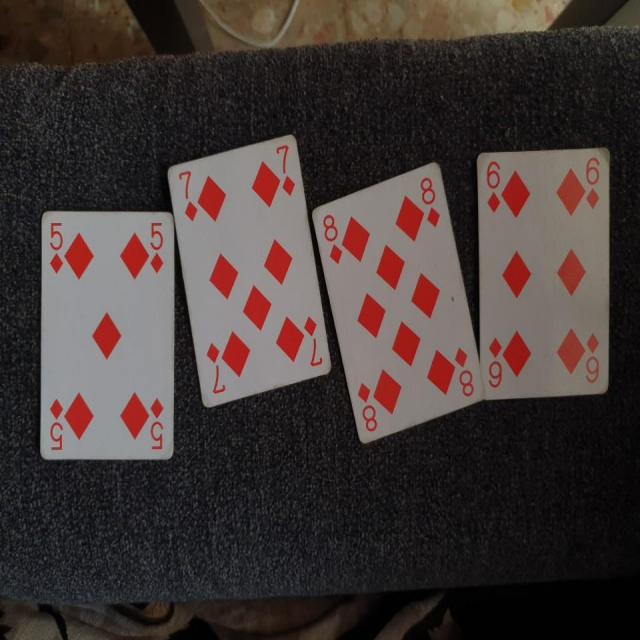5 Diamonds: (38, 209, 176, 460)
6 Diamonds: (474, 143, 612, 400)
7 Diamonds: (167, 132, 334, 409)
8 Diamonds: (311, 162, 486, 444)
